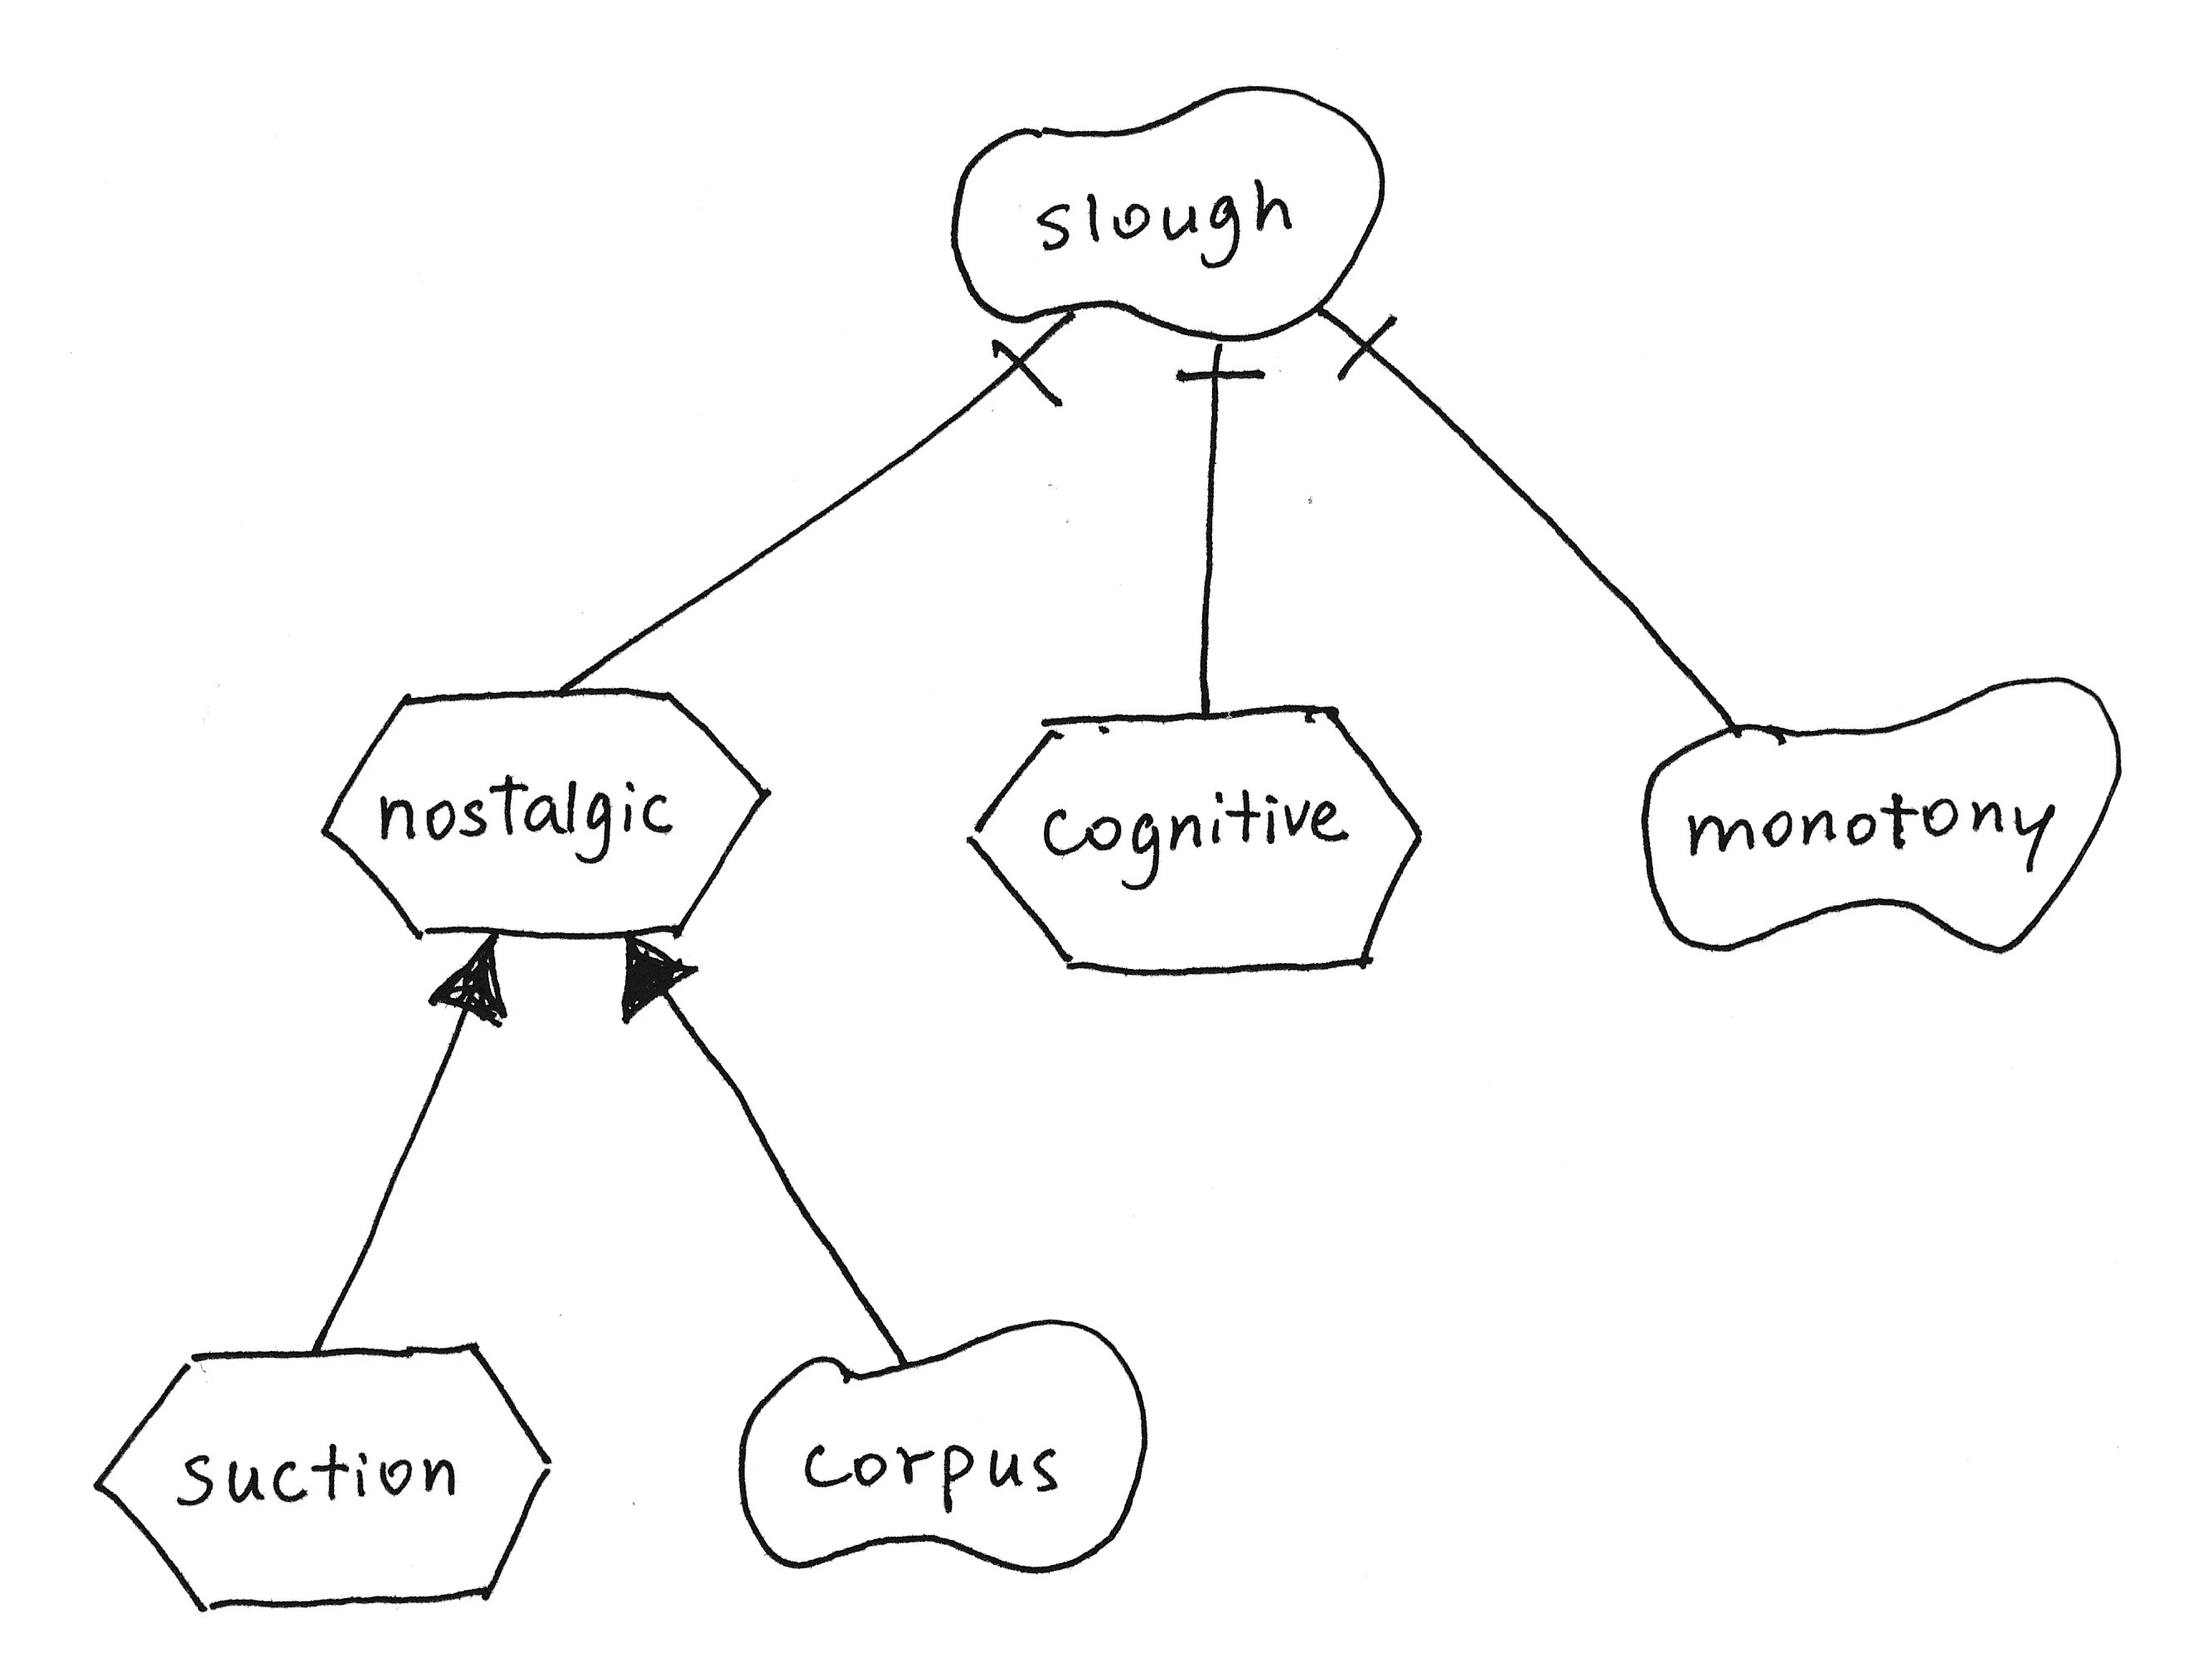and: (981, 291, 1085, 414), (1304, 290, 1424, 388), (1160, 326, 1273, 407)
or: (414, 922, 530, 1046), (597, 922, 709, 1034)
quality: (1615, 658, 2137, 965), (932, 65, 1403, 358), (716, 1294, 1166, 1583)
task: (79, 1323, 576, 1632), (952, 688, 1450, 995), (309, 658, 781, 955)
